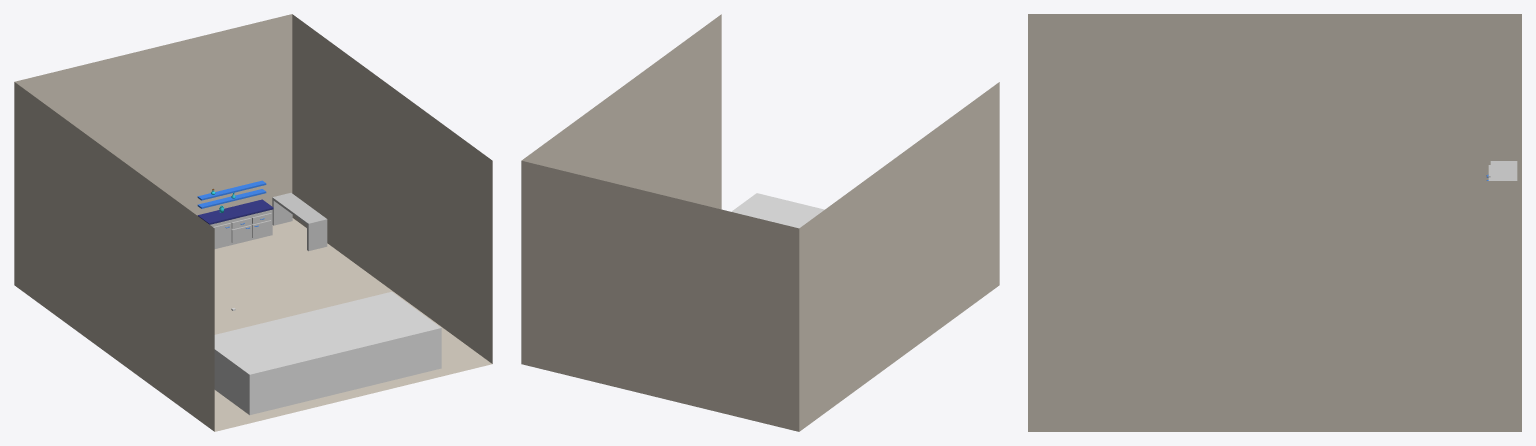
The model's file is normals.fbx.
The picture shows the model from 3 angles, left to right: view 1: azimuth 30°, elevation 25°; view 2: azimuth 150°, elevation 25°; view 3: azimuth 270°, elevation 25°; orthographic projection. The views are drawn at different scales.
Visible parts, largest first — view 1: Cube.001, balcony_base, balcony_center, balcony_table; view 2: Cube.001, balcony_base; view 3: Cube.001, air_balcony.
Boxes of the visible parts, <box> form: Cube.001: <box>14,14,492,431</box>; balcony_base: <box>214,291,441,415</box>; balcony_center: <box>197,180,273,248</box>; balcony_table: <box>272,193,327,251</box>; Cube.001: <box>521,14,999,431</box>; balcony_base: <box>731,193,824,228</box>; Cube.001: <box>1028,14,1521,431</box>; air_balcony: <box>1486,161,1517,180</box>.
Size of the model in its own units: 20000 by 14100 by 24977.
